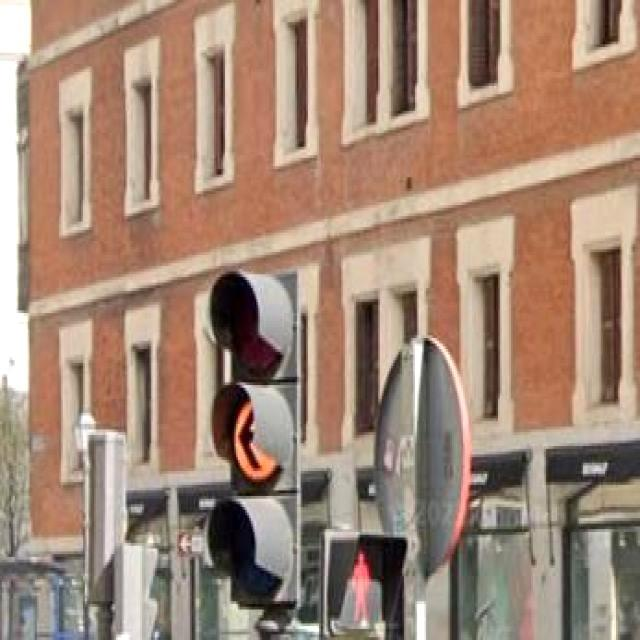Yellow: (229, 280, 282, 600)
